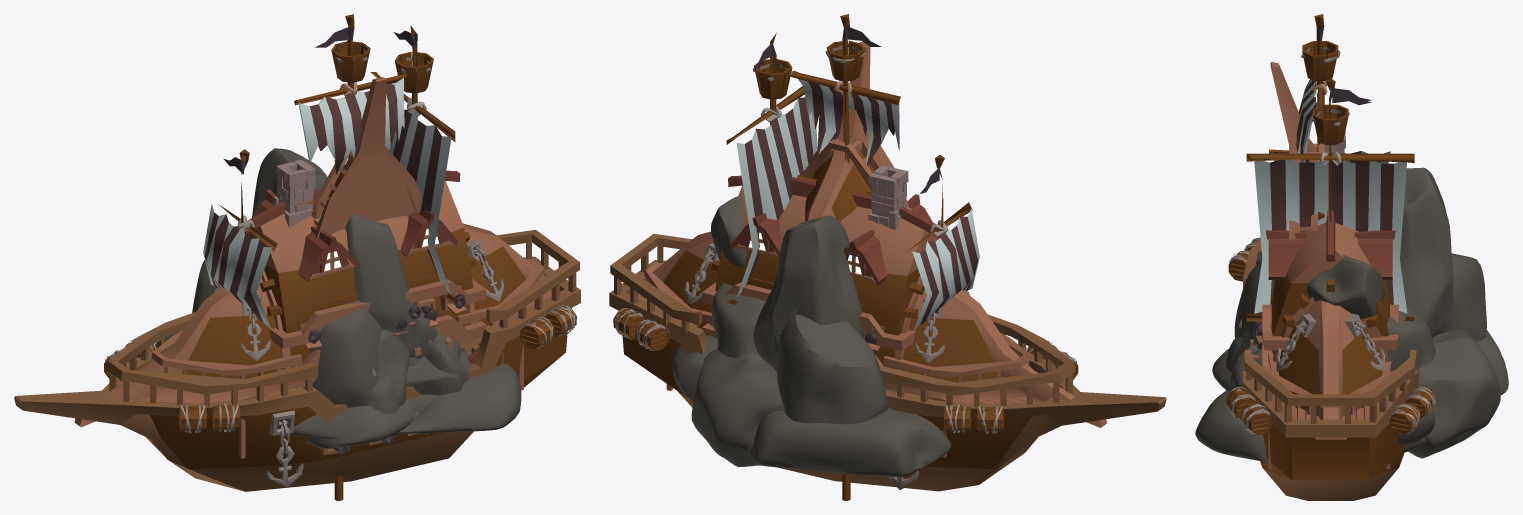
Rendered from pirate.glb.
3 renders of one model, left to right at view 1: azimuth 30°, elevation 25°; view 2: azimuth 150°, elevation 25°; view 3: azimuth 270°, elevation 25°, orthographic.
Parts seen in each view (by area): view 1: Ship_Large, Environment_House1, Environment_House3, Environment_Cliff4, Environment_House2, Environment_Cliff2, Environment_Cliff3, Environment_Cliff1; view 2: Ship_Large, Environment_Cliff2, Environment_House1, Environment_House3, Environment_House2, Environment_Cliff4; view 3: Ship_Large, Environment_Cliff2, Environment_House1, Environment_Cliff4, Environment_House3, Environment_House2, Environment_Cliff3, Environment_Cliff1.
Boxes of the visible parts, x1,y1,x2,y2 form: Ship_Large: [14, 25, 580, 491]; Environment_House1: [74, 159, 545, 427]; Environment_House3: [230, 14, 523, 458]; Environment_Cliff4: [290, 341, 521, 438]; Environment_House2: [311, 77, 420, 238]; Environment_Cliff2: [155, 148, 437, 412]; Environment_Cliff3: [345, 214, 438, 417]; Environment_Cliff1: [306, 335, 464, 448]; Ship_Large: [609, 33, 1166, 491]; Environment_Cliff2: [672, 215, 951, 477]; Environment_House1: [644, 165, 1106, 427]; Environment_House3: [666, 14, 954, 457]; Environment_House2: [800, 41, 909, 221]; Environment_Cliff4: [711, 195, 746, 266]; Ship_Large: [1226, 76, 1435, 500]; Environment_Cliff2: [1234, 167, 1508, 458]; Environment_House1: [1250, 131, 1398, 439]; Environment_Cliff4: [1195, 255, 1385, 462]; Environment_House3: [1255, 14, 1394, 469]; Environment_House2: [1270, 62, 1324, 240]; Environment_Cliff3: [1233, 286, 1426, 452]; Environment_Cliff1: [1212, 348, 1262, 391].
Bounding box in the file's own units: 15.43 × 12.64 × 7.9.
Materials: 2 (1 with a texture image).
